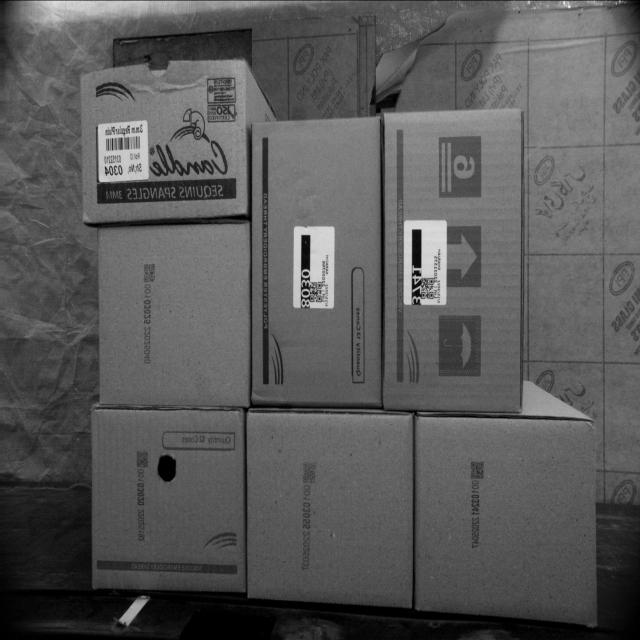cardboxes: (385, 104, 526, 413), (414, 414, 596, 630), (250, 115, 380, 406), (245, 411, 416, 606), (98, 222, 252, 410), (91, 411, 247, 594), (80, 56, 245, 220)
